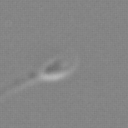normal: (1, 68, 41, 110)
